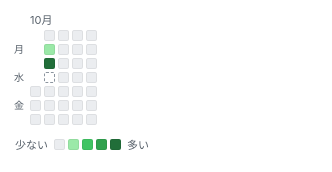
Scenario: GrassCalendar › renders the tooltip slot
Hover over the button named "2026年10月5日: 2 件" at (50, 50), box top-left (44, 44), bottom-right (55, 55)
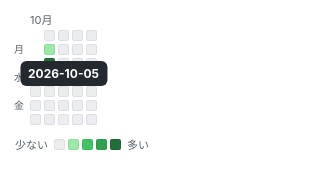
Now the text "2026-10-05" is shown, box top-left (28, 66), bottom-right (99, 81)
